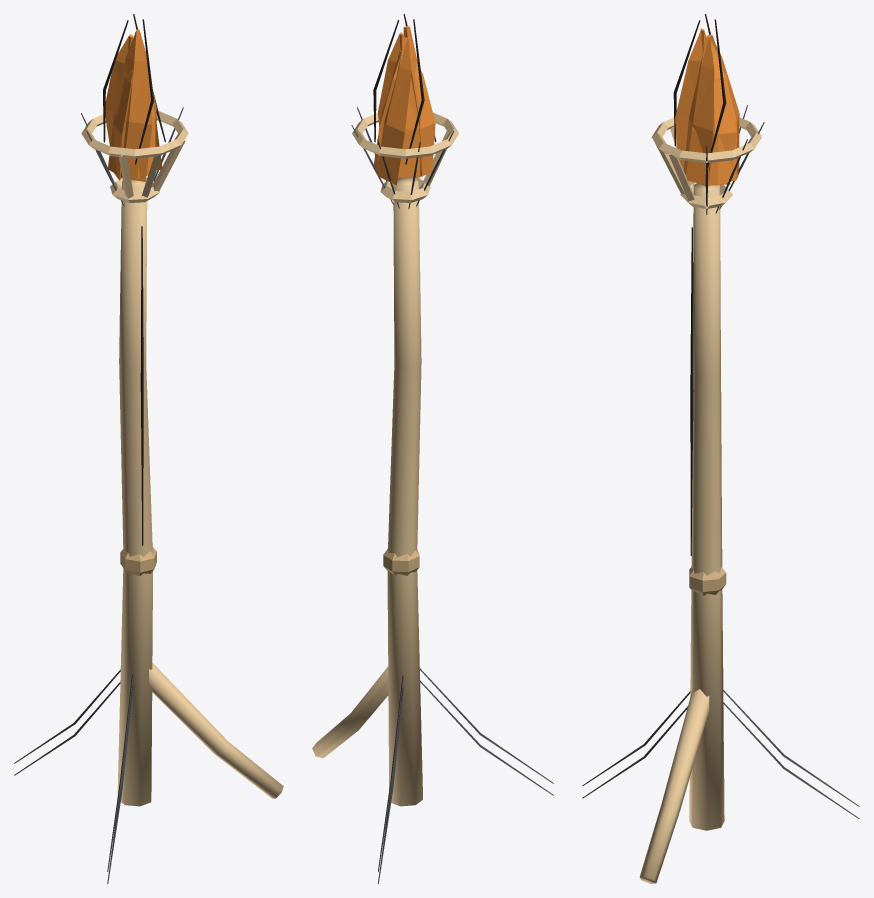
File: Torch.fbx
3 views of the same model, side by side, from view 1: azimuth 30°, elevation 25°; view 2: azimuth 150°, elevation 25°; view 3: azimuth 270°, elevation 25° (orthographic). The views are drawn at different scales.
Visible parts, largest first — view 1: Pole, Flame, Lines; view 2: Pole, Flame, Lines; view 3: Pole, Flame, Lines.
Boxes of the visible parts, <box> form: Pole: <box>81,111,283,806</box>; Flame: <box>103,14,165,181</box>; Lines: <box>14,107,183,883</box>; Pole: <box>312,112,458,806</box>; Flame: <box>373,14,436,185</box>; Lines: <box>351,107,553,883</box>; Pole: <box>639,117,761,883</box>; Flame: <box>673,14,739,186</box>; Lines: <box>582,105,859,818</box>.
Bounding box in the file's own units: 0.5437 × 2.01 × 0.612.
